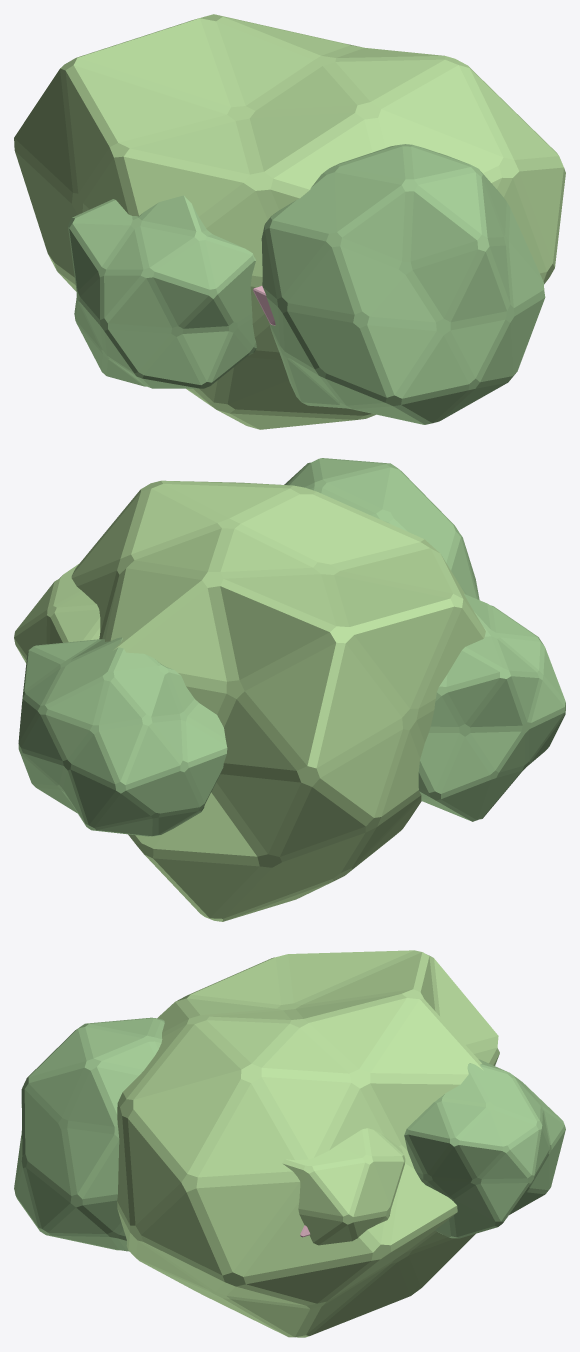
File: Veg_Bush_Flower.fbx
3 views of the same model, one above another, from view 1: azimuth 30°, elevation 25°; view 2: azimuth 150°, elevation 25°; view 3: azimuth 270°, elevation 25° (orthographic). The views are drawn at different scales.
Parts seen in each view (by area): view 1: Veg_Bush_Flower; view 2: Veg_Bush_Flower; view 3: Veg_Bush_Flower.
Boxes of the visible parts, box(x1,y1,x2,y2) form: Veg_Bush_Flower: box(14, 14, 565, 429); Veg_Bush_Flower: box(14, 458, 565, 921); Veg_Bush_Flower: box(14, 950, 565, 1337).
Bounding box in the file's own units: 1.47 × 1.09 × 1.73.
